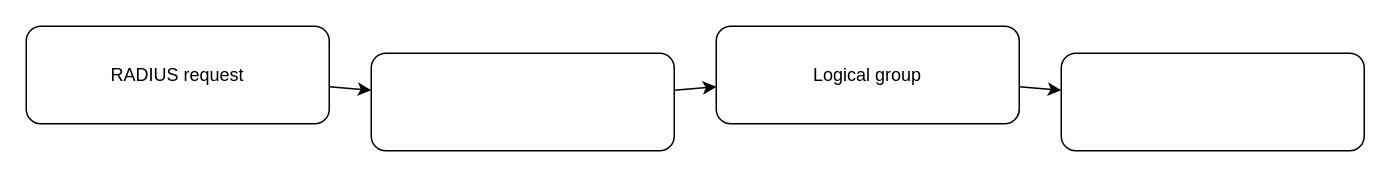
Image size: 1391x177. Some labels were removed from this diagram. The shapes that lost their labels are listed below. From the top down, each one's centre as x and y in pixels, then its label:
the point at 522,101: Calling-Station-Id
the point at 1212,101: Access-Accept
